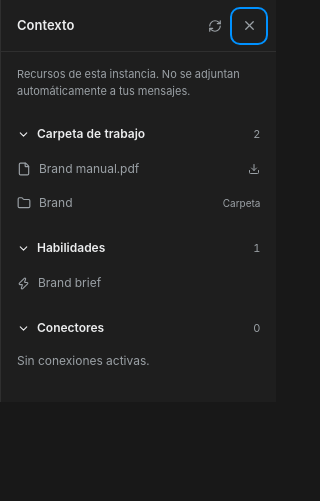
retains a visibly unverified previous list after refresh fails; directories are not downloads
The image size is (320, 501).
Click the button named "Actualizar fuentes de contexto". click: (216, 26)
box: [200,10,230,40]
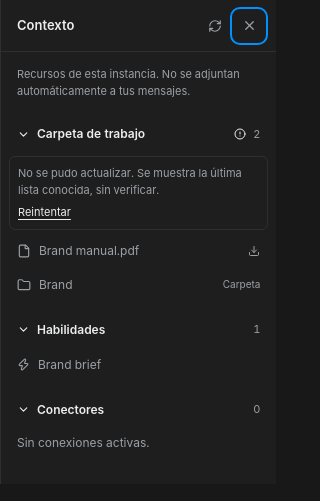
Expected: the text "Brand manual.pdf" is shown, [39,243,139,258]
Now the text "sin verificar" is shown, box [18,166,242,197]
